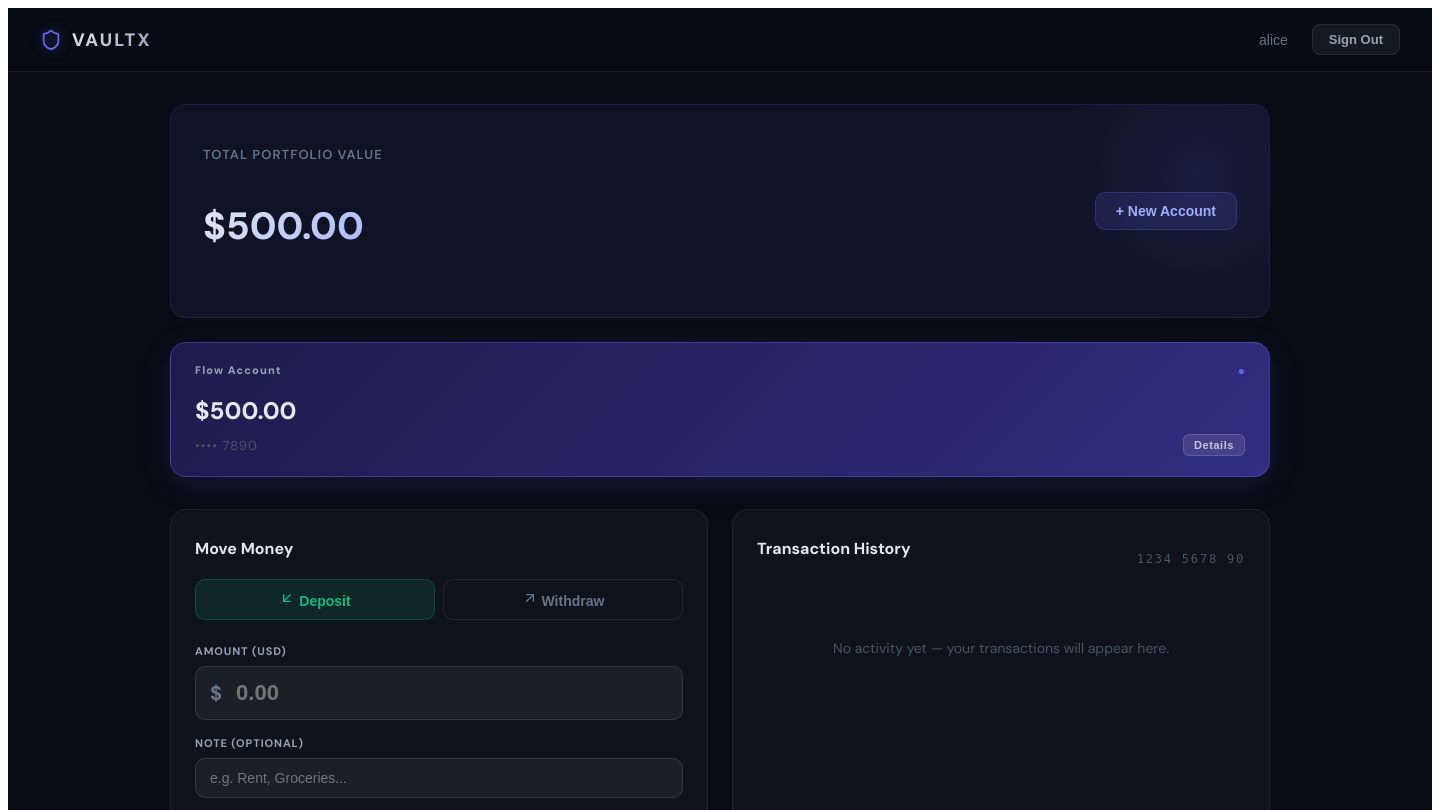
Test: Dashboard — transaction form › API transaction failure shows parsed error
The image size is (1440, 810).
Type "999" into the number field with placeholder "0.00".
click(452, 693); type("999")  # box [222,667,682,719]
(page scrolled)
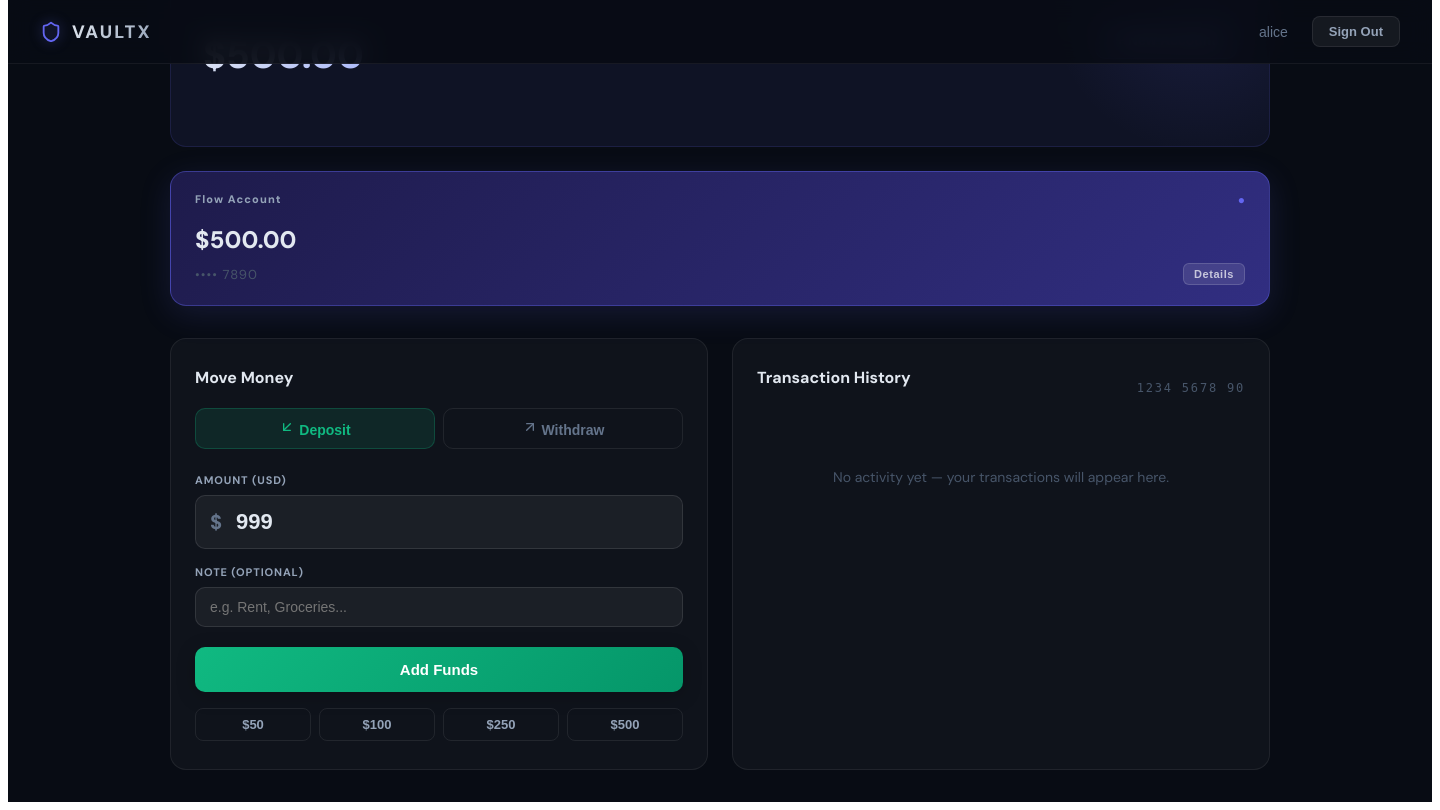
Submit the form, box [195,473,683,692]
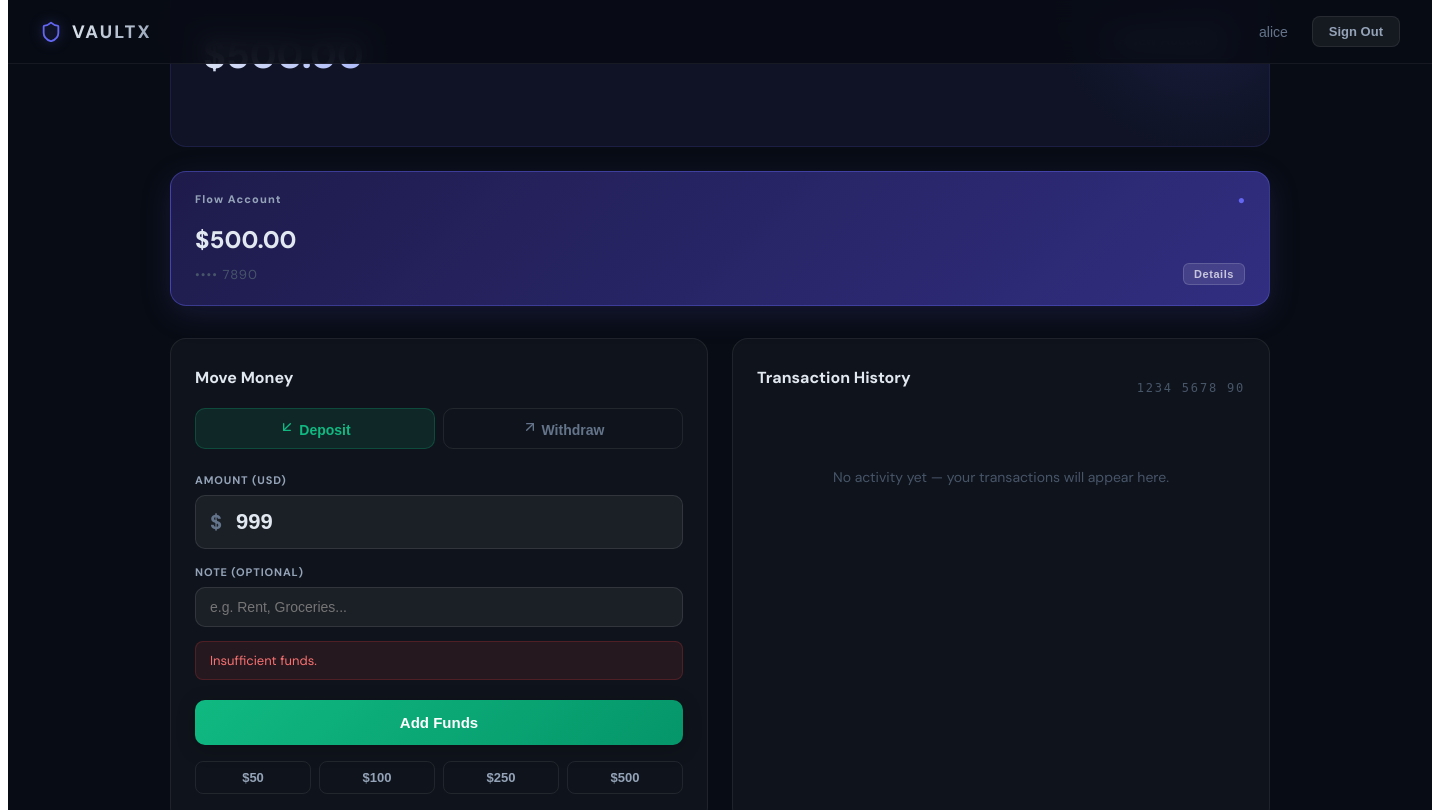
Expected: the text "Insufficient funds." is shown, [195,641,683,680]
